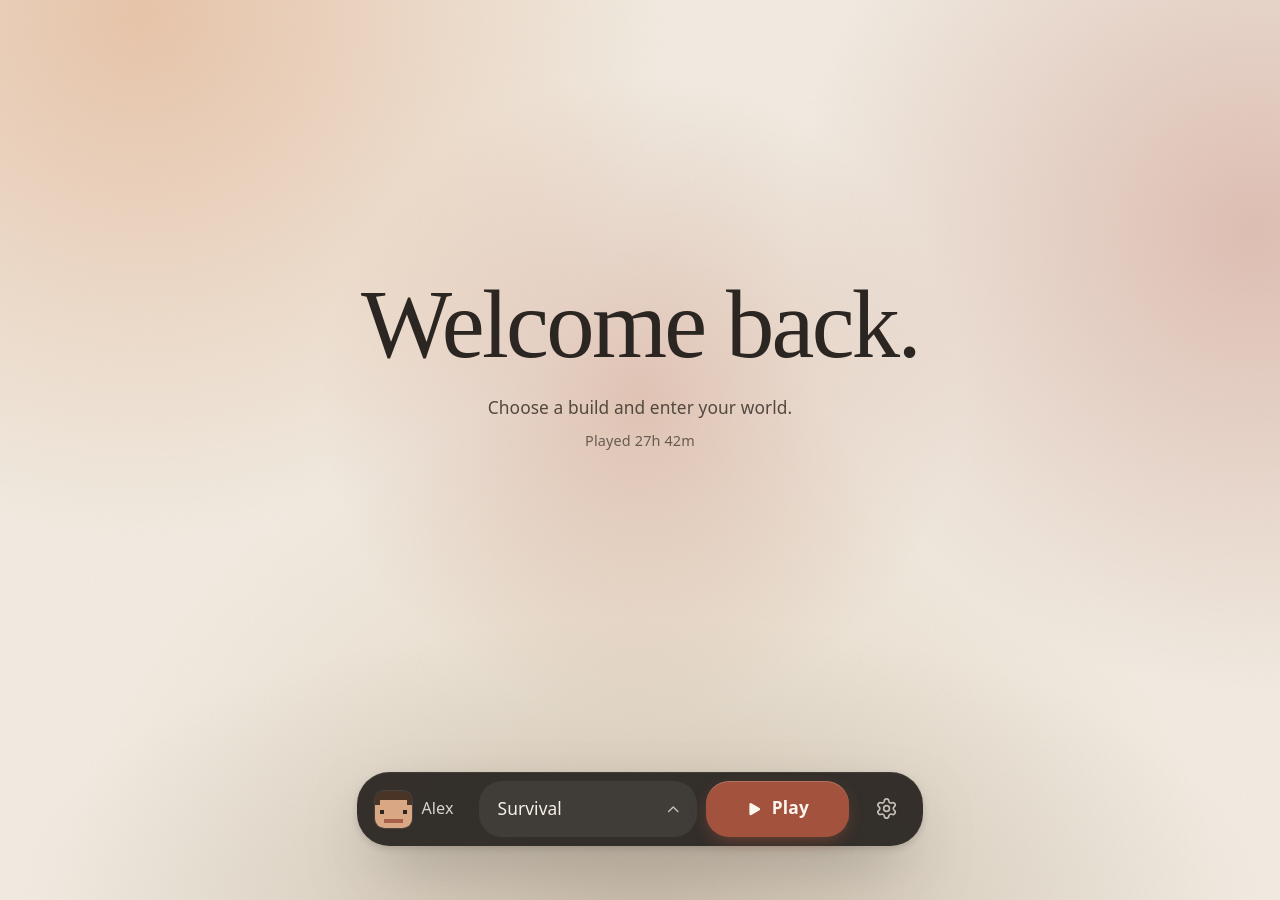
Test: switching the language live › English -> Русский -> English updates the screen without closing the modal or losing focus
Click the button named "Settings": (886, 809) x1=858 y1=781 x2=914 y2=837
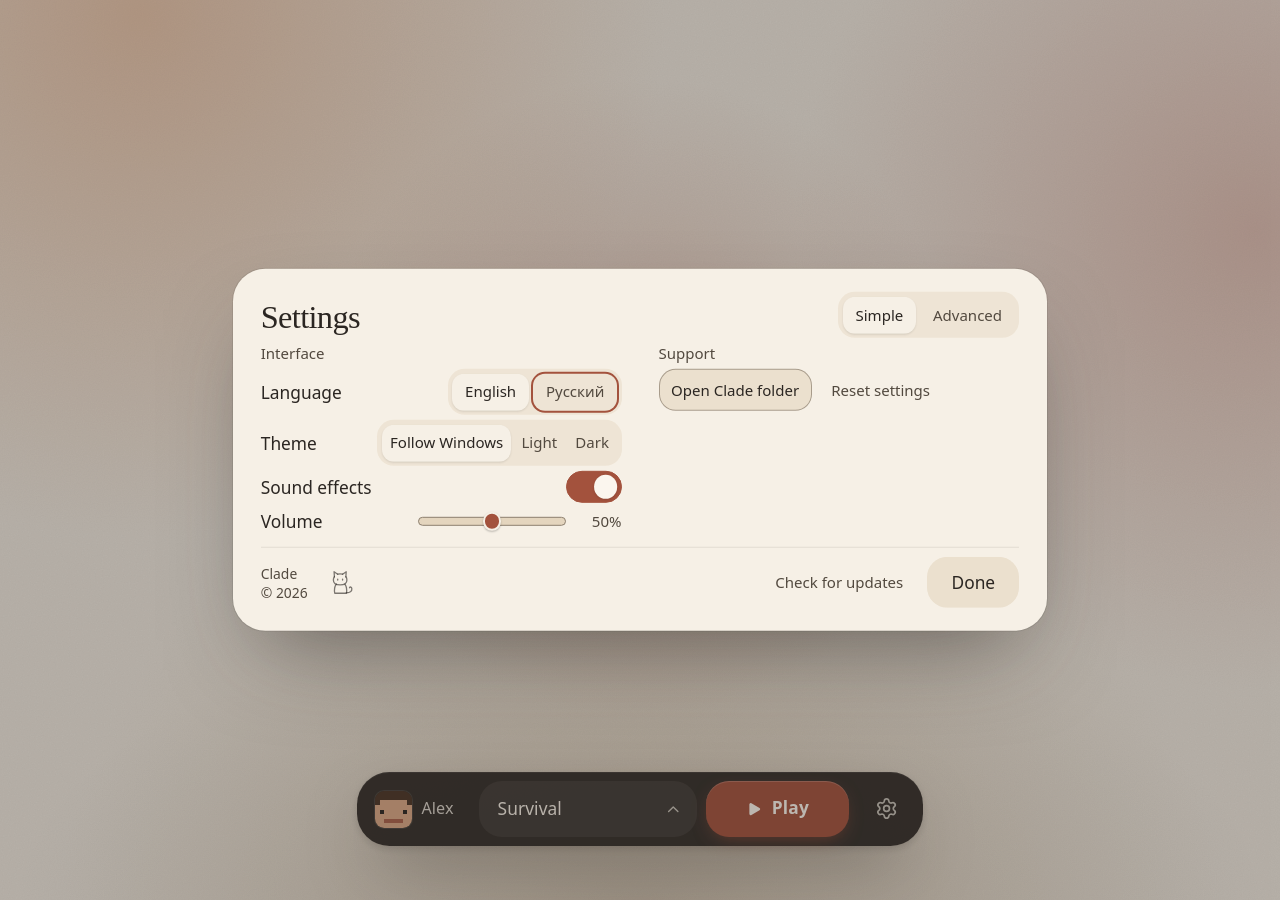
Expected: the dialog is shown, x1=233 y1=269 x2=1047 y2=631
Expected: the heading "Settings" is shown, x1=261 y1=297 x2=360 y2=338
Click the radio button labelled "Русский": (575, 392) x1=533 y1=374 x2=617 y2=410
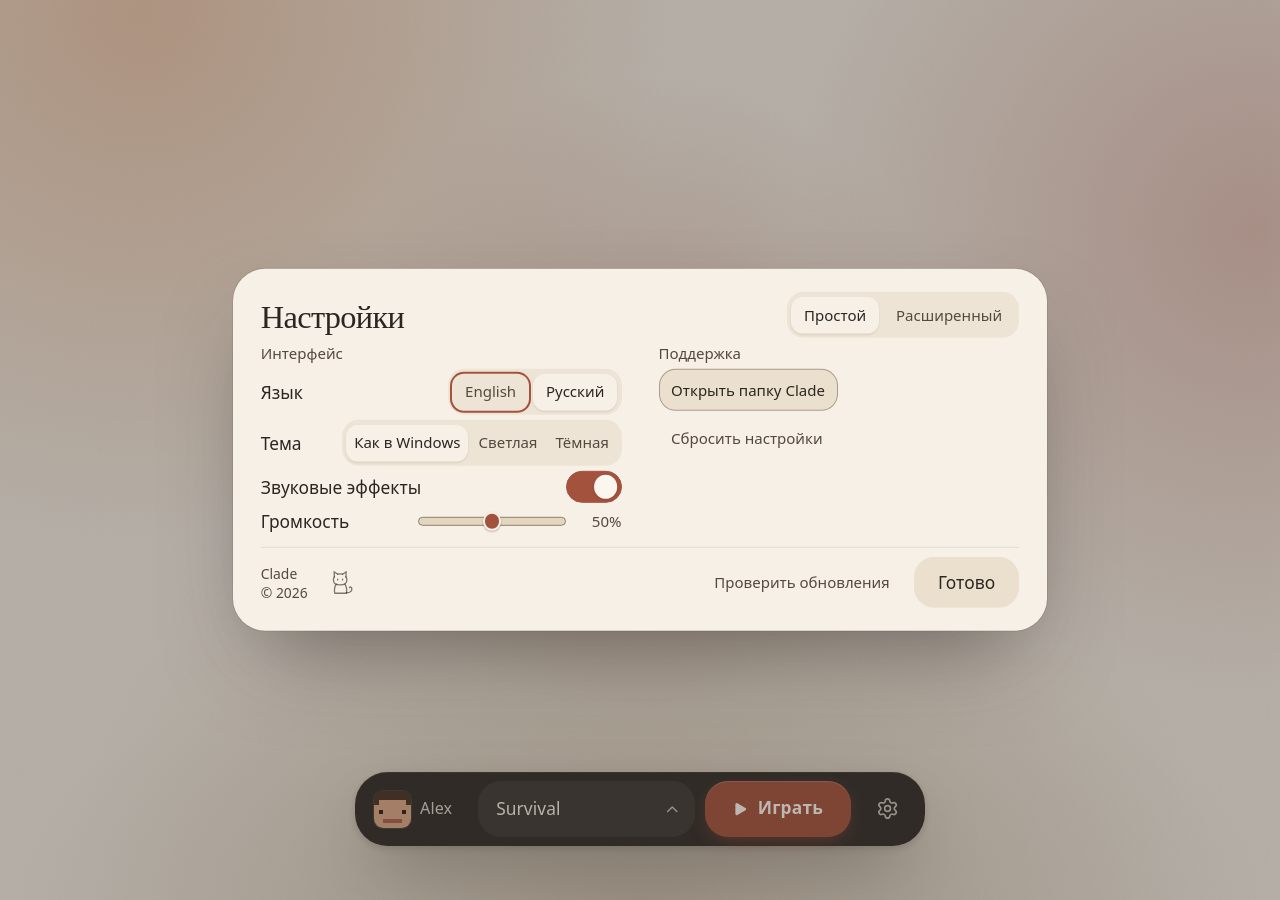
Expected: the number of dialogs is 1, x1=233 y1=269 x2=1047 y2=631
Expected: the heading "Настройки" is shown, x1=261 y1=297 x2=404 y2=338
Expected: the element named "Режим" is shown, x1=787 y1=292 x2=1019 y2=338
Click the radio button labelled "English": (491, 392) x1=452 y1=374 x2=529 y2=410
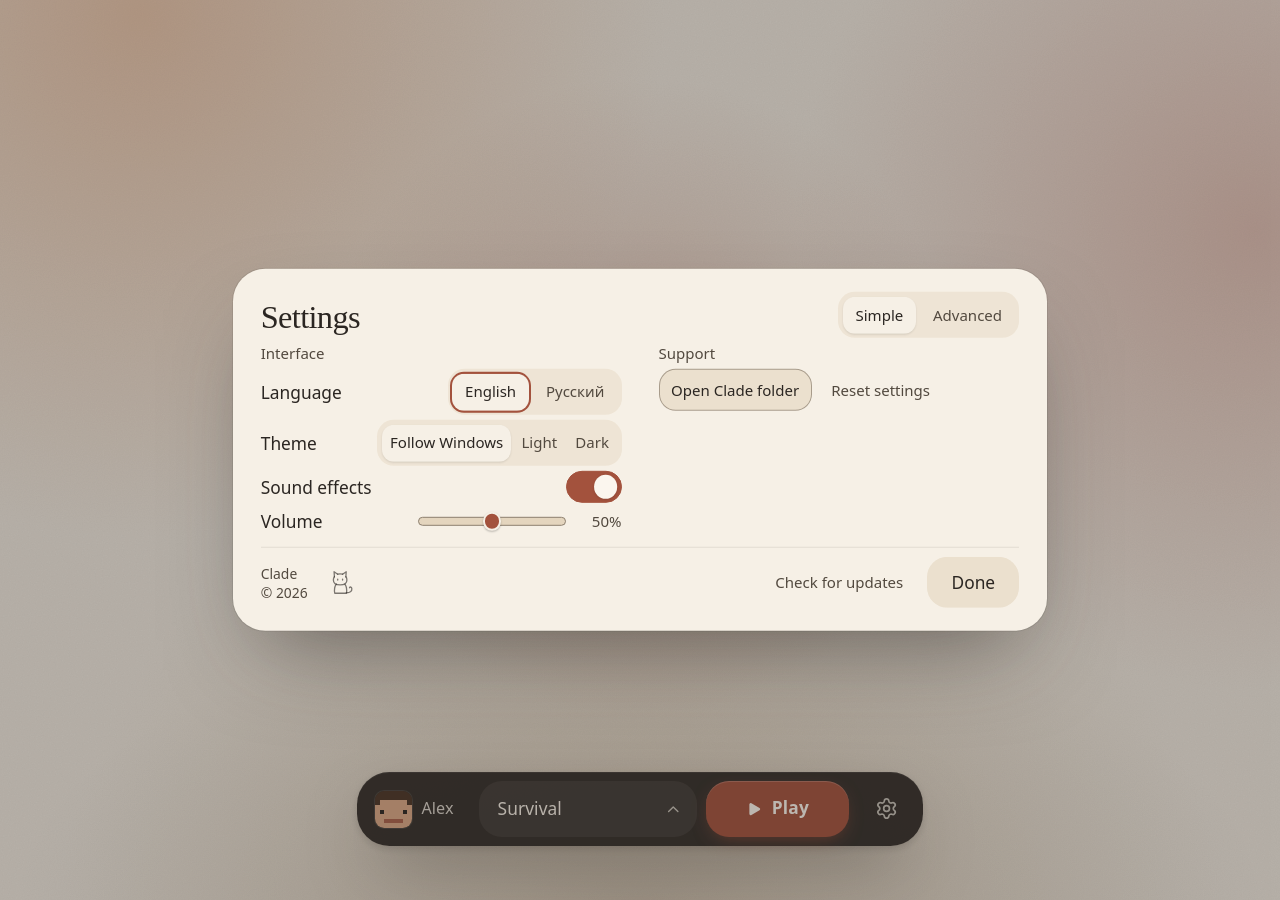
Expected: the heading "Settings" is shown, x1=261 y1=297 x2=360 y2=338
Expected: the text "Played 27h 42m" is shown, x1=585 y1=430 x2=695 y2=452
